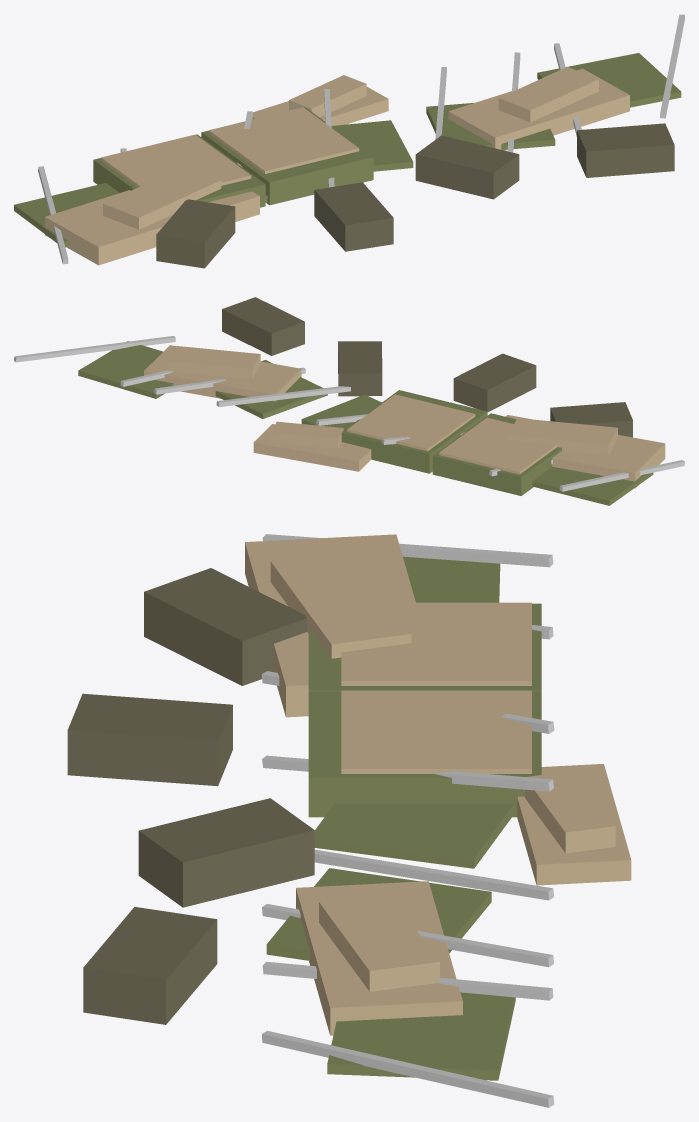
The model's file is SM_HescoCorto4_v3_RemateSacos_e3_Brecha_LOD0.fbx.
3 renders of one model, top to bottom at view 1: azimuth 30°, elevation 25°; view 2: azimuth 150°, elevation 25°; view 3: azimuth 270°, elevation 25°, orthographic. The views are drawn at different scales.
Parts seen in each view (by area): view 1: SM_hesco_piezas_v115_LOD0; view 2: SM_hesco_piezas_v115_LOD0; view 3: SM_hesco_piezas_v115_LOD0.
Part boxes in pixels (left/top/right/bottom): SM_hesco_piezas_v115_LOD0: left=14, top=14, right=684, bottom=268; SM_hesco_piezas_v115_LOD0: left=14, top=297, right=684, bottom=505; SM_hesco_piezas_v115_LOD0: left=67, top=534, right=631, bottom=1107.
Bounding box in the file's own units: 7.26 × 0.3263 × 2.95.
